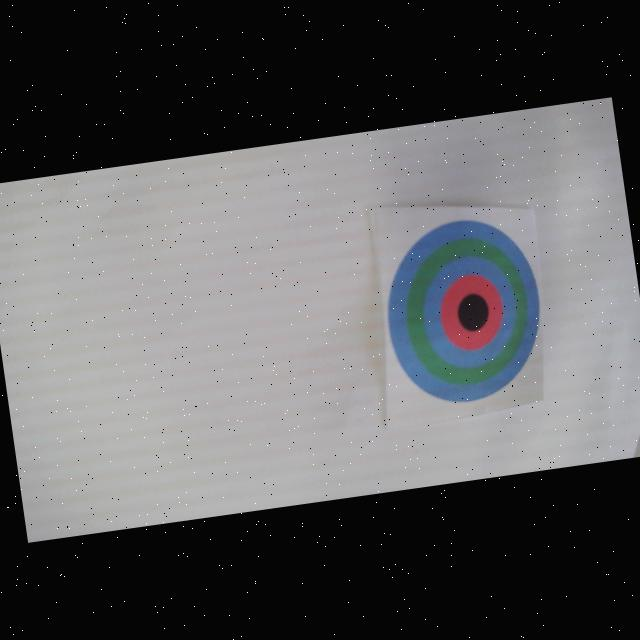COGNITIVE: (376, 209, 554, 412)
